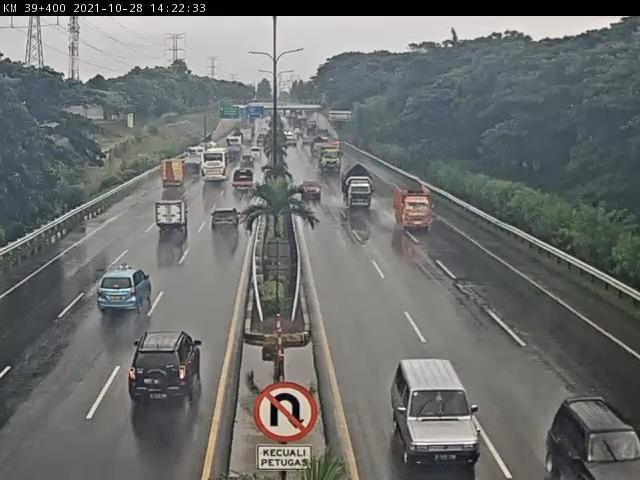Bus: (200, 144, 242, 188)
